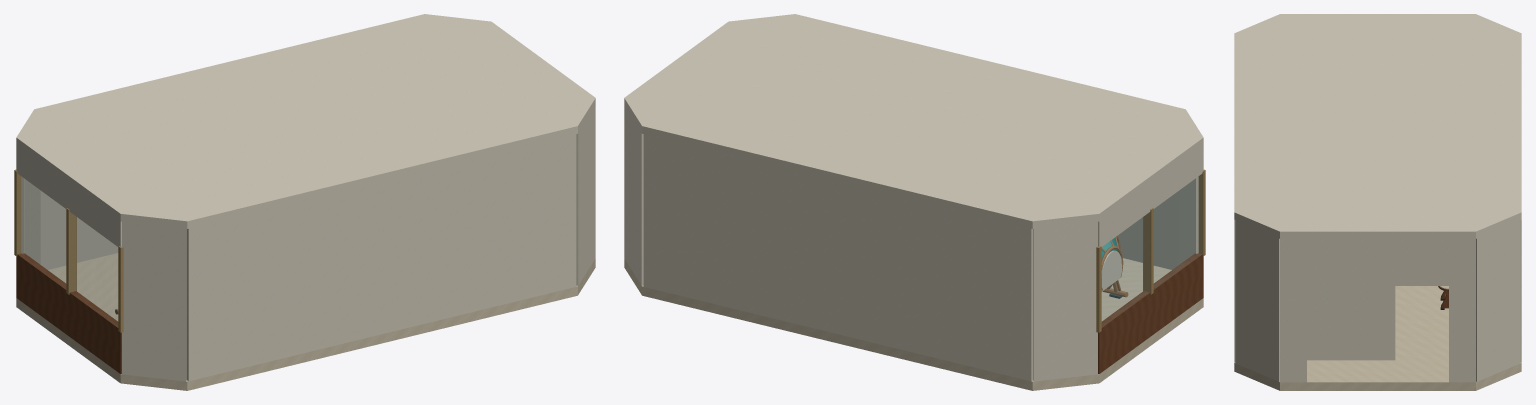
The model's file is D04_PORT_AFT_HOME_930_r001.glb.
3 views of the same model, side by side, from view 1: azimuth 30°, elevation 25°; view 2: azimuth 150°, elevation 25°; view 3: azimuth 270°, elevation 25° (orthographic). The views are drawn at different scales.
Visible parts, largest first — view 1: PA930_D04SH937_Roof, PA930_D04SH937_Shell_7, PA930_D04SH937_Shell_0, PA930_D04SH937_Floor, PA930_D04SH937_GardenGlass, PA930_D04SH937_GardenDado, PA930_D04SH937_Shell_6, PA930_D04SH937_GardenHead, PA930_D04SH937_Shell_3, PA930_D04SH937_Shell_2, PA930_D04SH937_WindowMullion_1, PA930_D04SH937_WindowMullion_2 (+1 smaller); view 2: PA930_D04SH937_Roof, PA930_D04SH937_Shell_3, PA930_D04SH937_Shell_2, PA930_D04SH937_Floor, PA930_D04SH937_GardenGlass, PA930_D04SH937_GardenDado, PA930_D04SH937_Shell_4, PA930_D04SH937_GardenHead, PA930_D04SH937_Shell_7, PA930_D04SH937_Shell_0, PA930_D04SH937_WindowMullion_1, PA930_D04SH937_WindowMullion_0 (+2 smaller); view 3: PA930_D04SH937_Roof, PA930_D04SH937_Floor, PA930_D04SH937_EntryHeader, PA930_D04SH937_Shell_4, PA930_D04SH937_Shell_6, PA930_D04SH937_BathDogleg, PA930_D04SH937_EntryWall_0, PA930_D04SH937_EntryWall_1, PA930_D04SH937_BathScreen, PA930_D04SH937_Shell_3, PA930_D04SH937_Shell_7.
Boxes of the visible parts, x1,y1,x2,y2 form: PA930_D04SH937_Roof: (16, 14, 595, 228); PA930_D04SH937_Shell_7: (186, 134, 576, 381); PA930_D04SH937_Shell_0: (122, 221, 186, 381); PA930_D04SH937_Floor: (16, 253, 595, 390); PA930_D04SH937_GardenGlass: (24, 179, 117, 325); PA930_D04SH937_GardenDado: (16, 253, 121, 373); PA930_D04SH937_Shell_6: (576, 107, 595, 285); PA930_D04SH937_GardenHead: (16, 145, 121, 246); PA930_D04SH937_Shell_3: (40, 191, 118, 269); PA930_D04SH937_Shell_2: (21, 176, 40, 264); PA930_D04SH937_WindowMullion_1: (66, 208, 76, 294); PA930_D04SH937_WindowMullion_2: (14, 169, 21, 256); PA930_D04SH937_Roof: (624, 14, 1203, 228); PA930_D04SH937_Shell_3: (643, 134, 1033, 381); PA930_D04SH937_Shell_2: (1033, 221, 1097, 381); PA930_D04SH937_Floor: (624, 258, 1203, 390); PA930_D04SH937_GardenGlass: (1102, 179, 1200, 325); PA930_D04SH937_GardenDado: (1098, 253, 1203, 373); PA930_D04SH937_Shell_4: (624, 107, 643, 285); PA930_D04SH937_GardenHead: (1098, 145, 1203, 246); PA930_D04SH937_Shell_7: (1117, 191, 1179, 269); PA930_D04SH937_Shell_0: (1179, 176, 1198, 264); PA930_D04SH937_WindowMullion_1: (1143, 208, 1153, 294); PA930_D04SH937_WindowMullion_0: (1198, 169, 1205, 256); PA930_D04SH937_Roof: (1234, 14, 1521, 238); PA930_D04SH937_Floor: (1234, 286, 1521, 390); PA930_D04SH937_EntryHeader: (1307, 239, 1448, 285); PA930_D04SH937_Shell_4: (1476, 220, 1520, 381); PA930_D04SH937_Shell_6: (1235, 220, 1279, 381); PA930_D04SH937_BathDogleg: (1307, 286, 1395, 360); PA930_D04SH937_EntryWall_0: (1280, 239, 1306, 382); PA930_D04SH937_EntryWall_1: (1449, 239, 1475, 382); PA930_D04SH937_BathScreen: (1388, 286, 1395, 360); PA930_D04SH937_Shell_3: (1520, 219, 1521, 362); PA930_D04SH937_Shell_7: (1234, 219, 1235, 362).
Size of the model in its own units: 12.92 by 4.4 by 7.2.
Materials: 36 (21 with a texture image).
